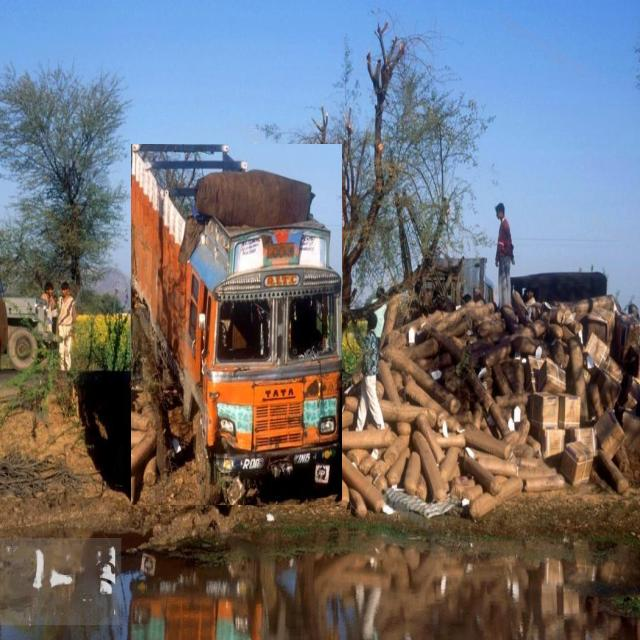accident: (131, 144, 341, 505)
